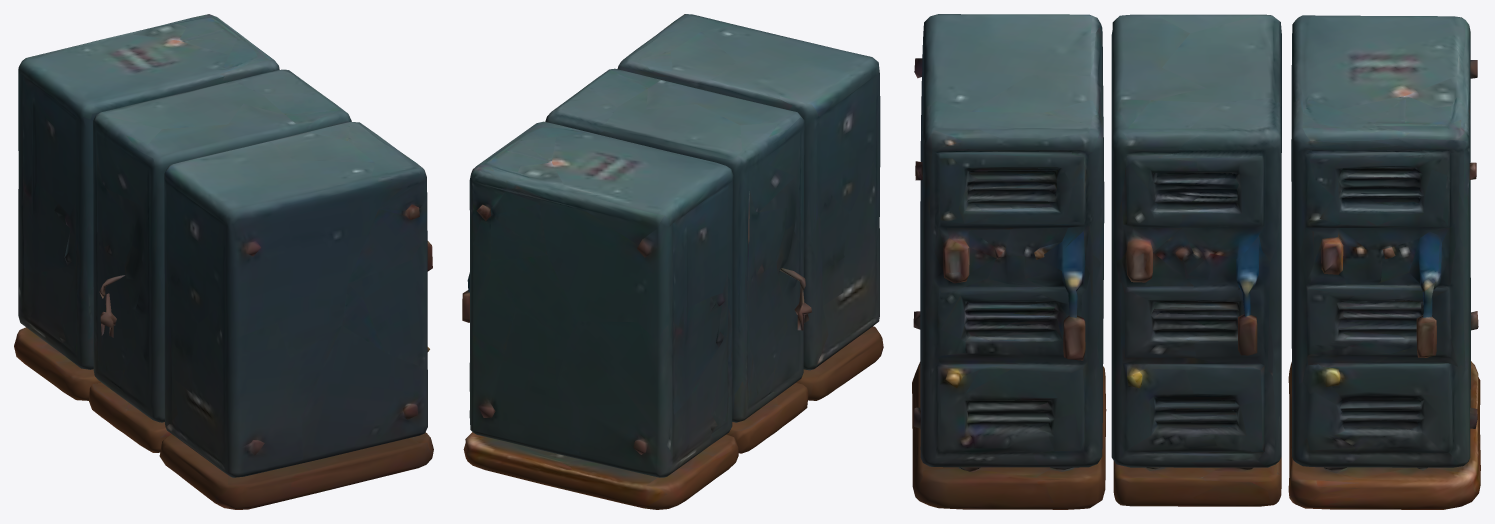
File: server.glb
3 views of the same model, side by side, from view 1: azimuth 30°, elevation 25°; view 2: azimuth 150°, elevation 25°; view 3: azimuth 270°, elevation 25° (orthographic). The views are drawn at different scales.
Visible parts, largest first — view 1: tripo_node_985298bb-0495-442a-851b-7197149c83b9; view 2: tripo_node_985298bb-0495-442a-851b-7197149c83b9; view 3: tripo_node_985298bb-0495-442a-851b-7197149c83b9.
Part boxes in pixels (x1=…): tripo_node_985298bb-0495-442a-851b-7197149c83b9: x1=14, y1=14, x2=433, y2=509; tripo_node_985298bb-0495-442a-851b-7197149c83b9: x1=462, y1=14, x2=883, y2=509; tripo_node_985298bb-0495-442a-851b-7197149c83b9: x1=912, y1=14, x2=1480, y2=509.
Bounding box in the file's own units: 0.632 × 0.7292 × 0.9998.
1 material, 1 textured.
